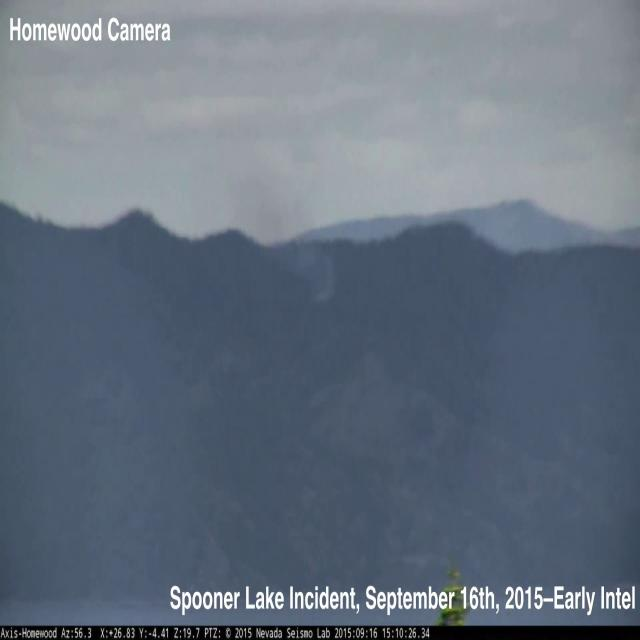smoke: (245, 152, 343, 316)
